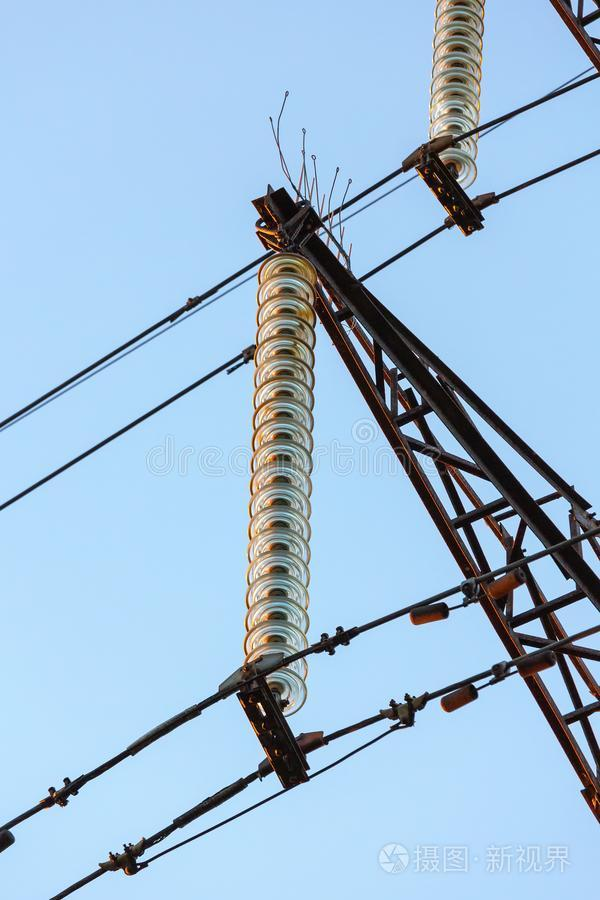insulator: (238, 251, 314, 714), (430, 1, 490, 184)
